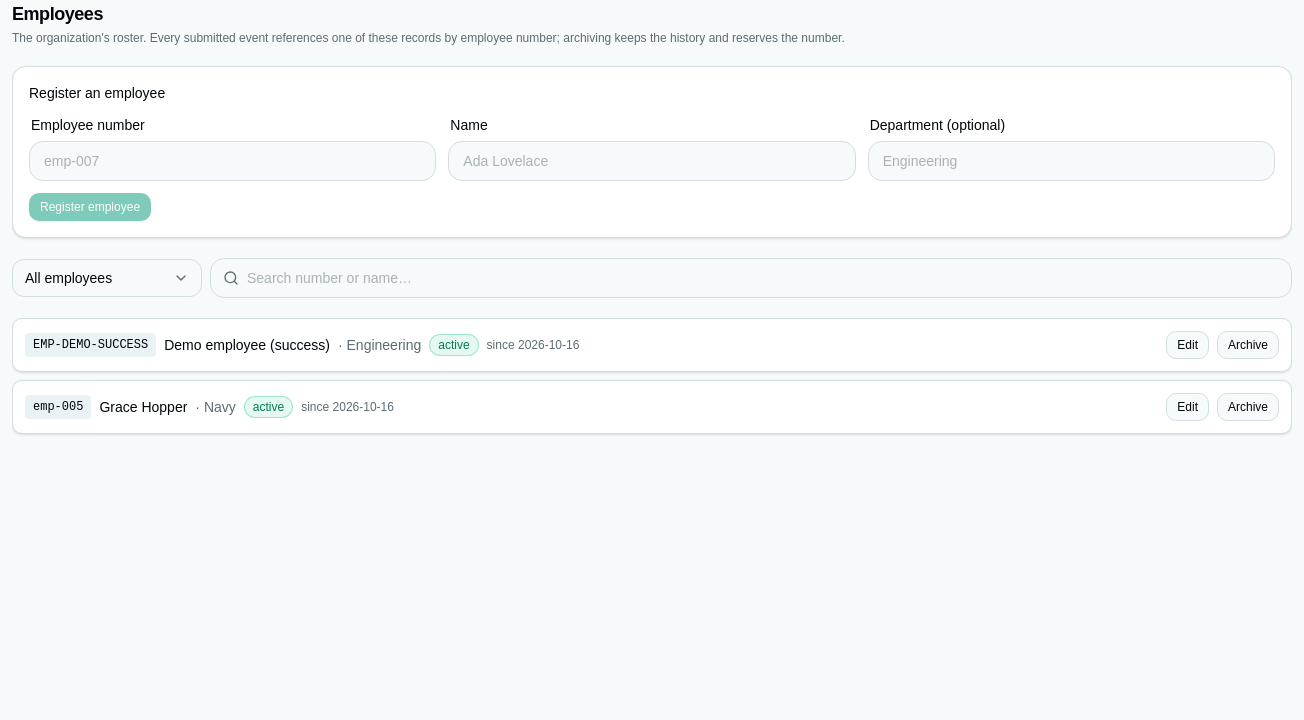
Test: EmployeesView › surfaces a duplicate-number 409 with the values kept editable
The image size is (1304, 720).
Expected: the text "Grace Hopper" is shown, [99,397,187,417]
Type "emp-005" into the field with test id "employee-number-input". click: (233, 161)
box: [30,142,435,180]
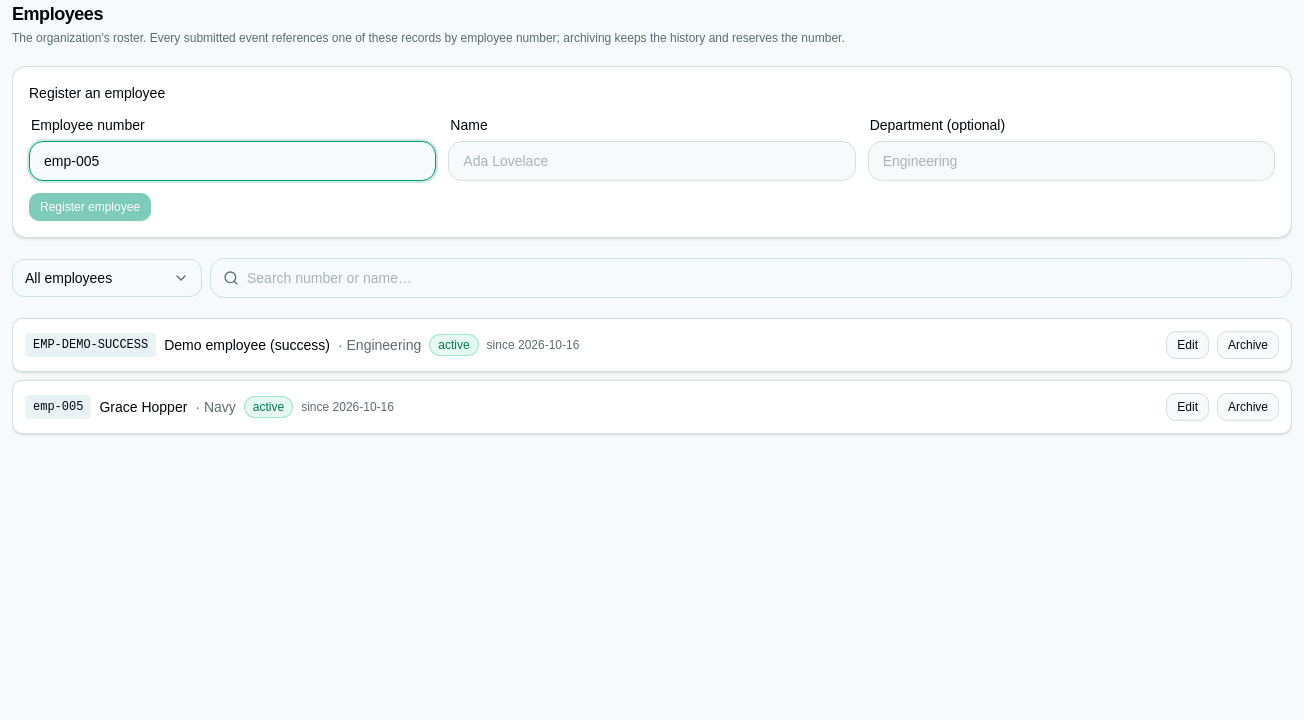
Type "Grace Again" into the field with test id "employee-name-input". click: (652, 161)
box: [449,142,855,180]
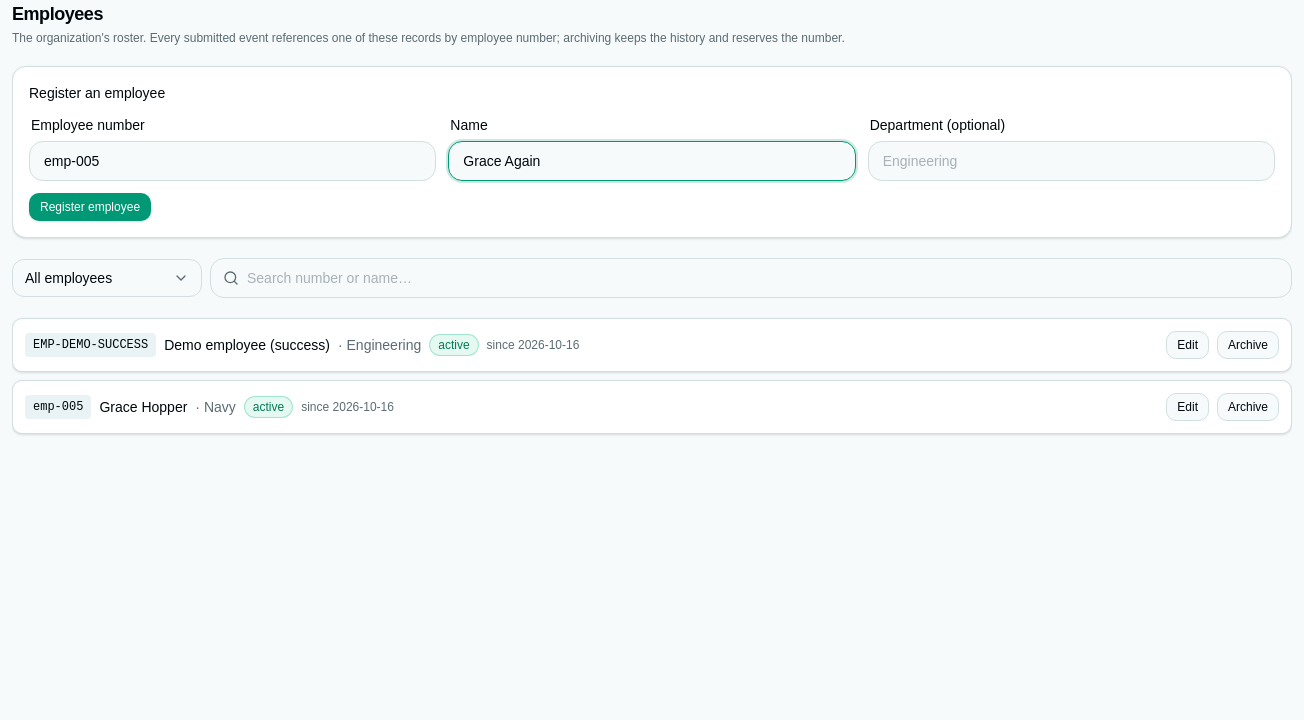
Click the button with test id "employee-create-submit". click: (90, 207)
box: [29,193,151,221]
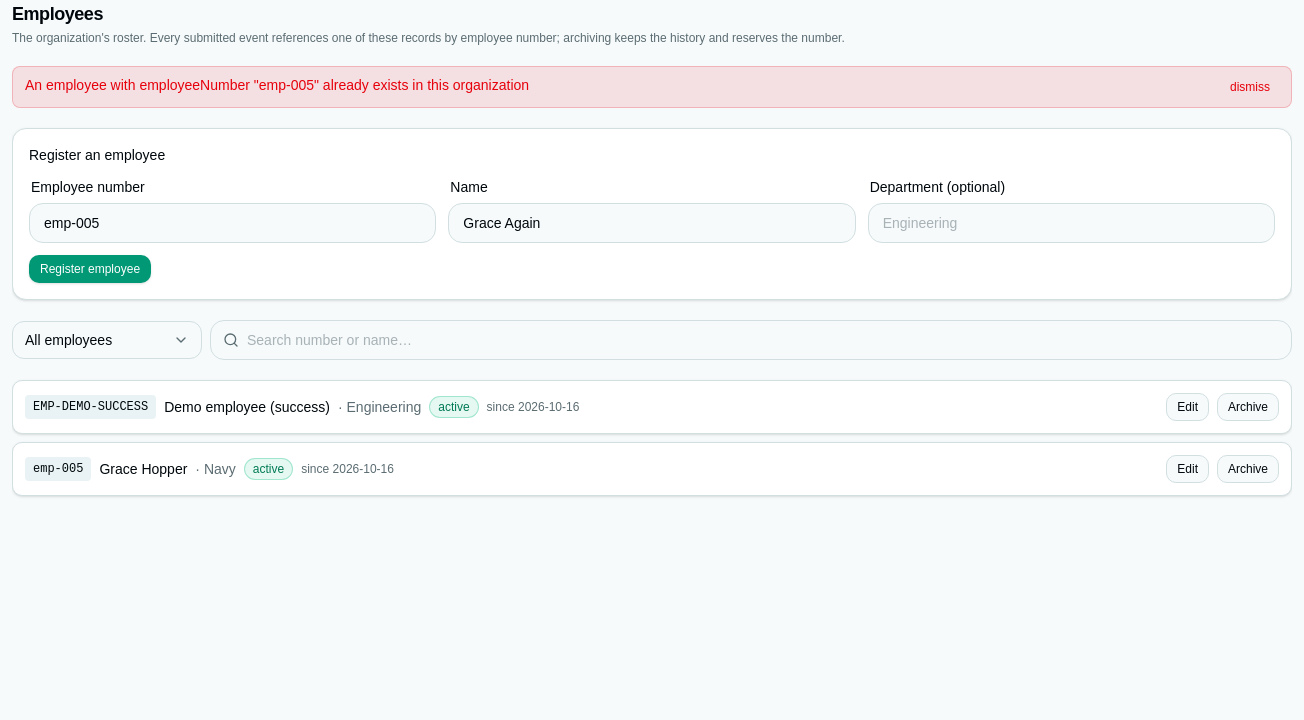
Expected: the message shows "already exists in this organization", [25,77,529,93]
